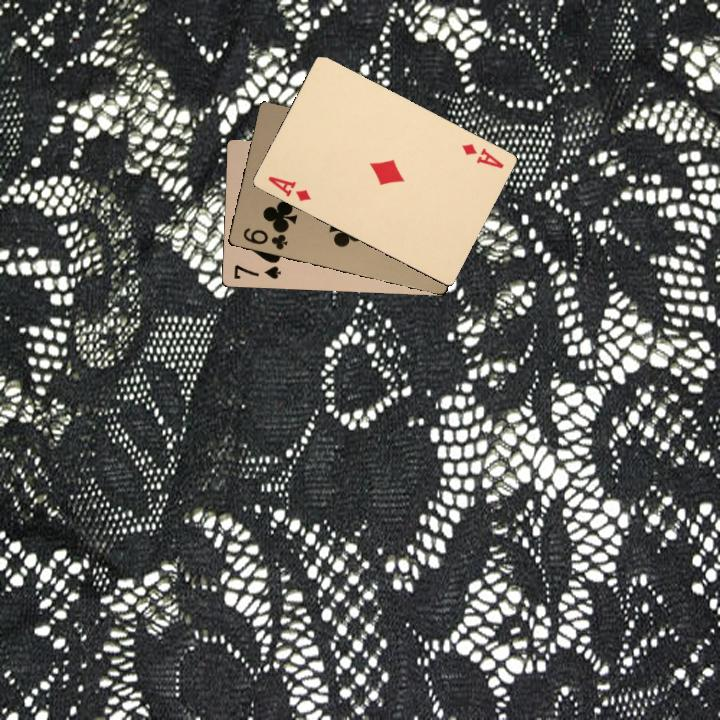6c: (239, 224, 290, 252)
7s: (230, 261, 283, 282)
Ad: (264, 172, 313, 204), (458, 139, 507, 171)
